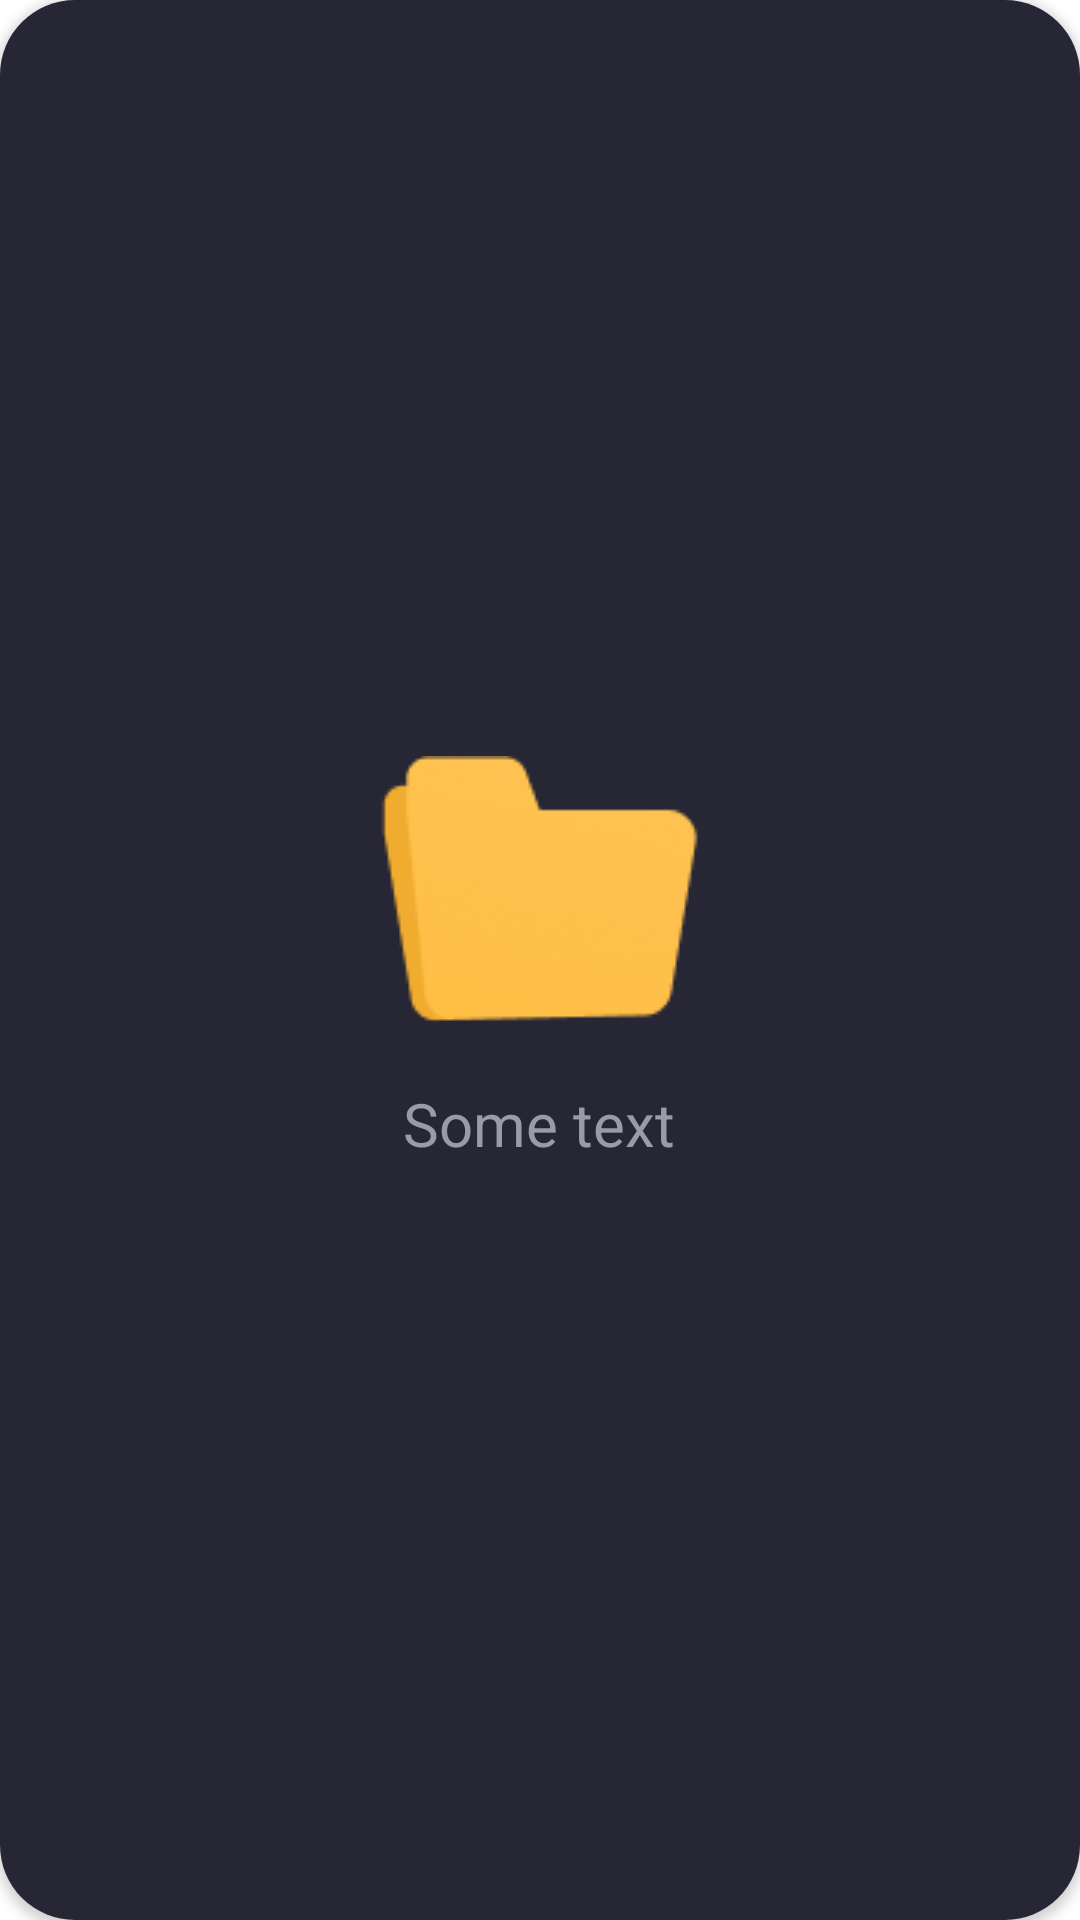

Icon click points for this 1080w x 1920h phone screenshot, format point (x, y):
folder: point (540, 888)
